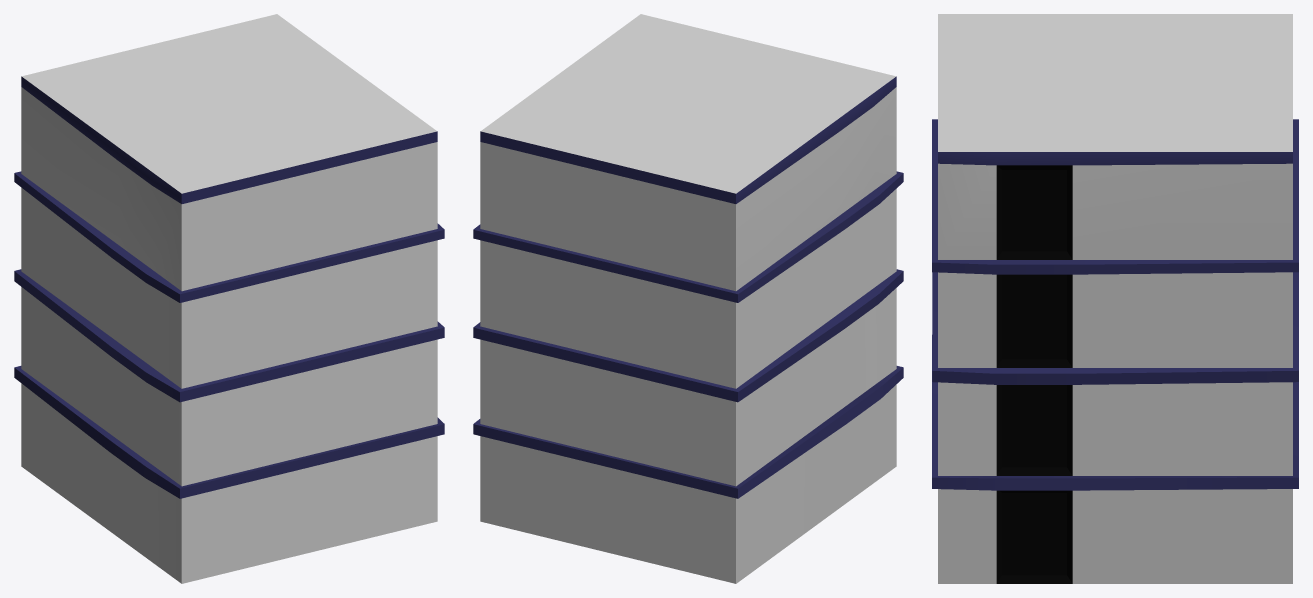
Rendered from Building.fbx.
3 renders of one model, left to right at view 1: azimuth 30°, elevation 25°; view 2: azimuth 150°, elevation 25°; view 3: azimuth 270°, elevation 25°, orthographic. The views are drawn at different scales.
Parts seen in each view (by area): view 1: pCube22; view 2: pCube22; view 3: pCube22.
Part boxes in pixels (<box>): pCube22: <box>14,14,444,583</box>; pCube22: <box>473,14,903,583</box>; pCube22: <box>932,14,1298,583</box>.
Bounding box in the file's own units: 1021 × 1373 × 1057.
